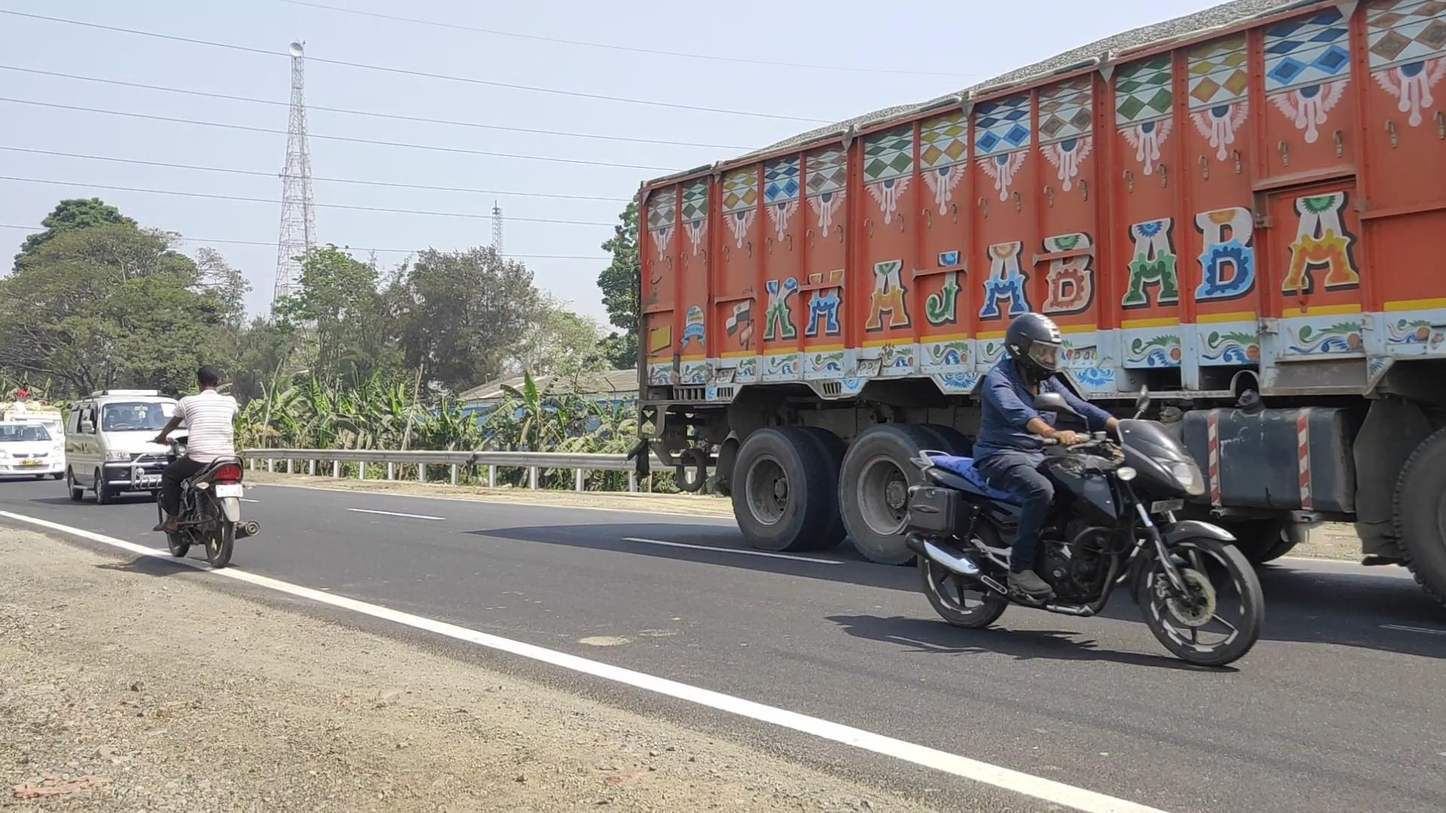bike: (905, 313, 1264, 666), (147, 364, 261, 569)
car: (1, 421, 66, 482)
truck: (634, 2, 1446, 608)
van: (65, 389, 197, 505)
